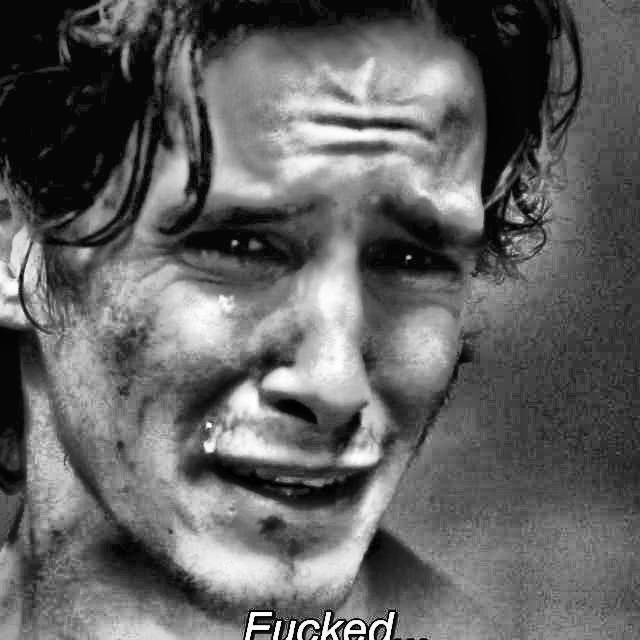sad: (29, 6, 488, 610)
